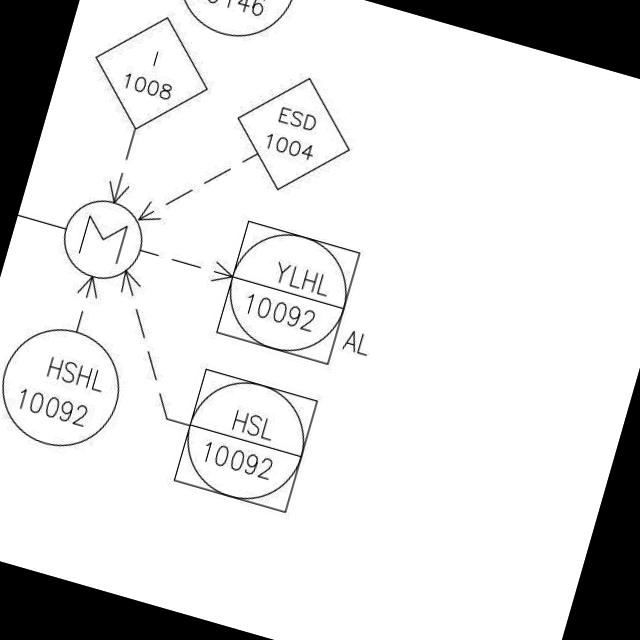M: (49, 191, 152, 287)
